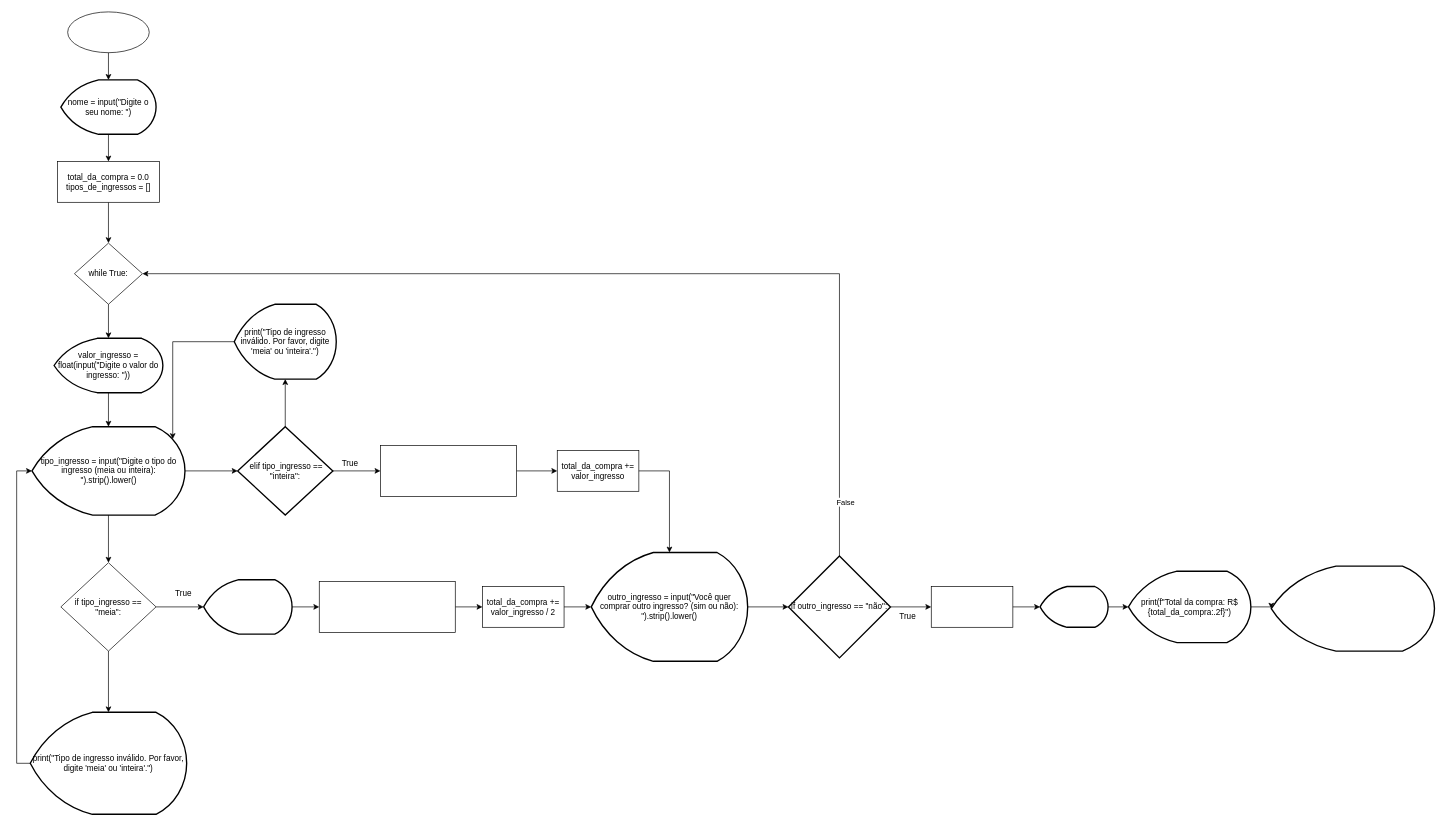
The diagram is 1447 pixels wide and 827 high, and some of its shapes have lost their labels. Each missing label, with the centre of its shape:
break: (972,606)
carteirinha = input("Digite a carteirinha: "): (247,606)
Inicio: (108,32)
print("Tipos de ingressos comprados:", ', '.join(tipos_de_ingressos)): (1352,608)
print(f"\nNome: {nome}"): (1073,606)
tipos_de_ingressos.append("inteira"): (448,470)
tipos_de_ingressos.append("meia"): (387,606)
